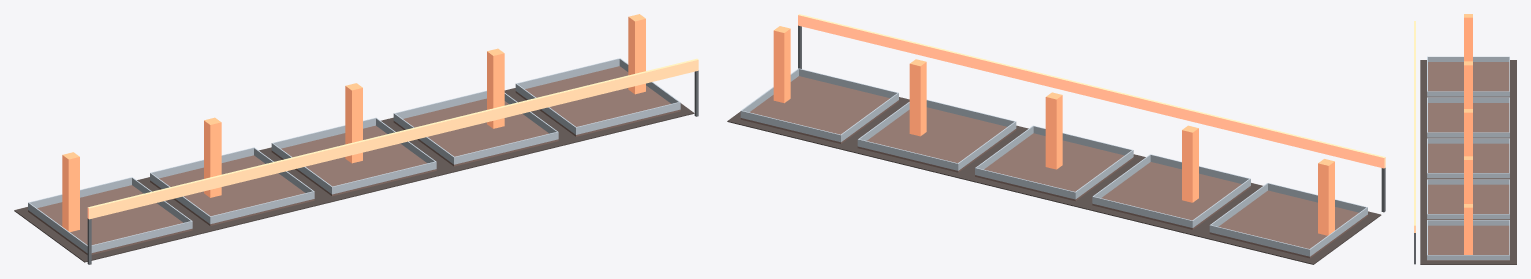
The model's file is pack-care-across-a-life.glb.
3 renders of one model, left to right at view 1: azimuth 30°, elevation 25°; view 2: azimuth 150°, elevation 25°; view 3: azimuth 270°, elevation 25°, orthographic. The views are drawn at different scales.
Parts seen in each view (by area): view 1: Care Across a Life; view 2: Care Across a Life; view 3: Care Across a Life.
Boxes of the visible parts, x1,y1,x2,y2 form: Care Across a Life: [14, 14, 698, 264]; Care Across a Life: [727, 14, 1385, 264]; Care Across a Life: [1414, 14, 1516, 264].
Bounding box in the file's own units: 70 × 8.3 × 14.9.
